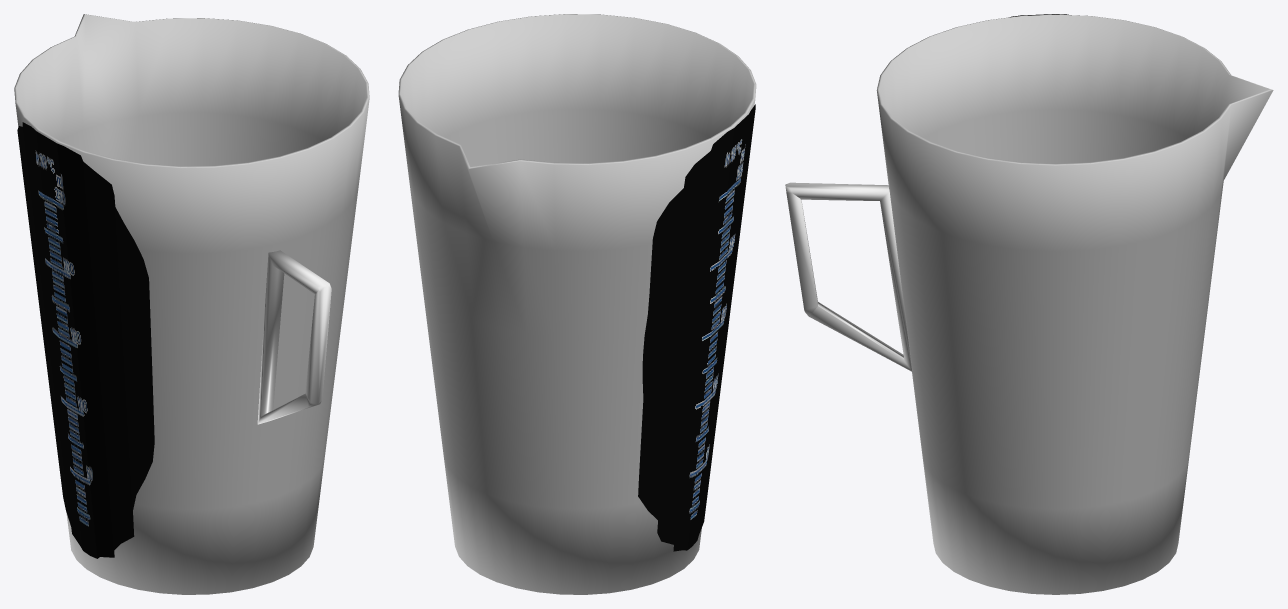
Rendered from cadong1.fbx.
3 renders of one model, left to right at view 1: azimuth 30°, elevation 25°; view 2: azimuth 150°, elevation 25°; view 3: azimuth 270°, elevation 25°, orthographic.
Parts seen in each view (by area): view 1: Hình Trụ, Empty.001, Plane; view 2: Hình Trụ, Empty.001; view 3: Hình Trụ, Plane.
Part boxes in pixels (box(x1,y1,x2,y2)): Hình Trụ: box(14, 14, 369, 594); Empty.001: box(17, 122, 154, 558); Plane: box(257, 250, 331, 424); Hình Trụ: box(398, 14, 756, 594); Empty.001: box(638, 104, 755, 551); Hình Trụ: box(876, 14, 1273, 594); Plane: box(785, 182, 912, 371).
Size of the model in its own units: 252 by 351 by 342.
Materials: 3 (1 with a texture image).
